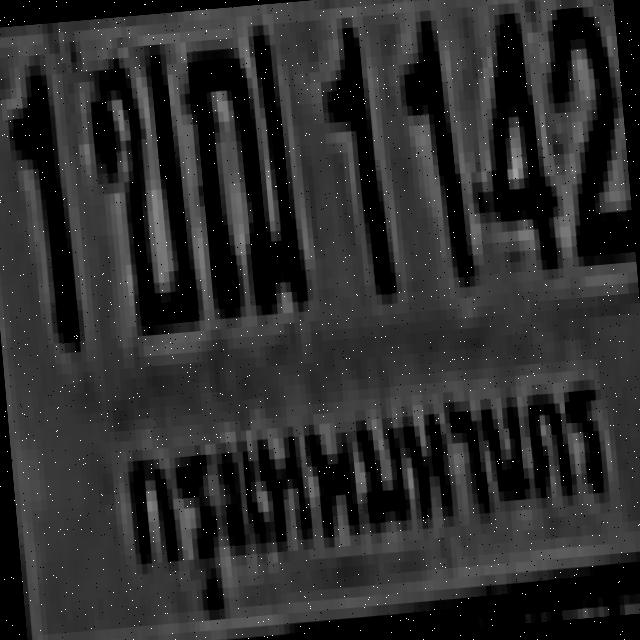1: (3, 58, 74, 340), (317, 16, 388, 298), (394, 9, 464, 281)
11KhorKhai: (80, 44, 194, 328)
2: (542, 0, 632, 252)
21ChorChoe: (178, 13, 302, 310)
4: (469, 0, 554, 264)
Bangkok: (108, 342, 629, 604)
